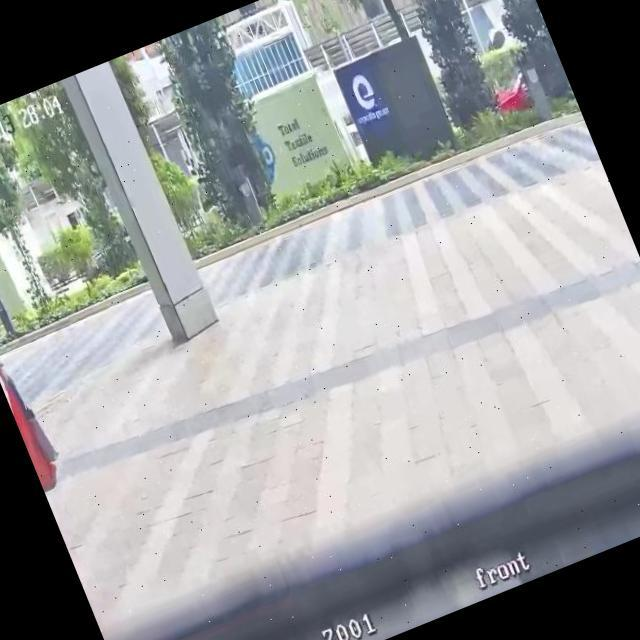person: (0, 221, 98, 602)
